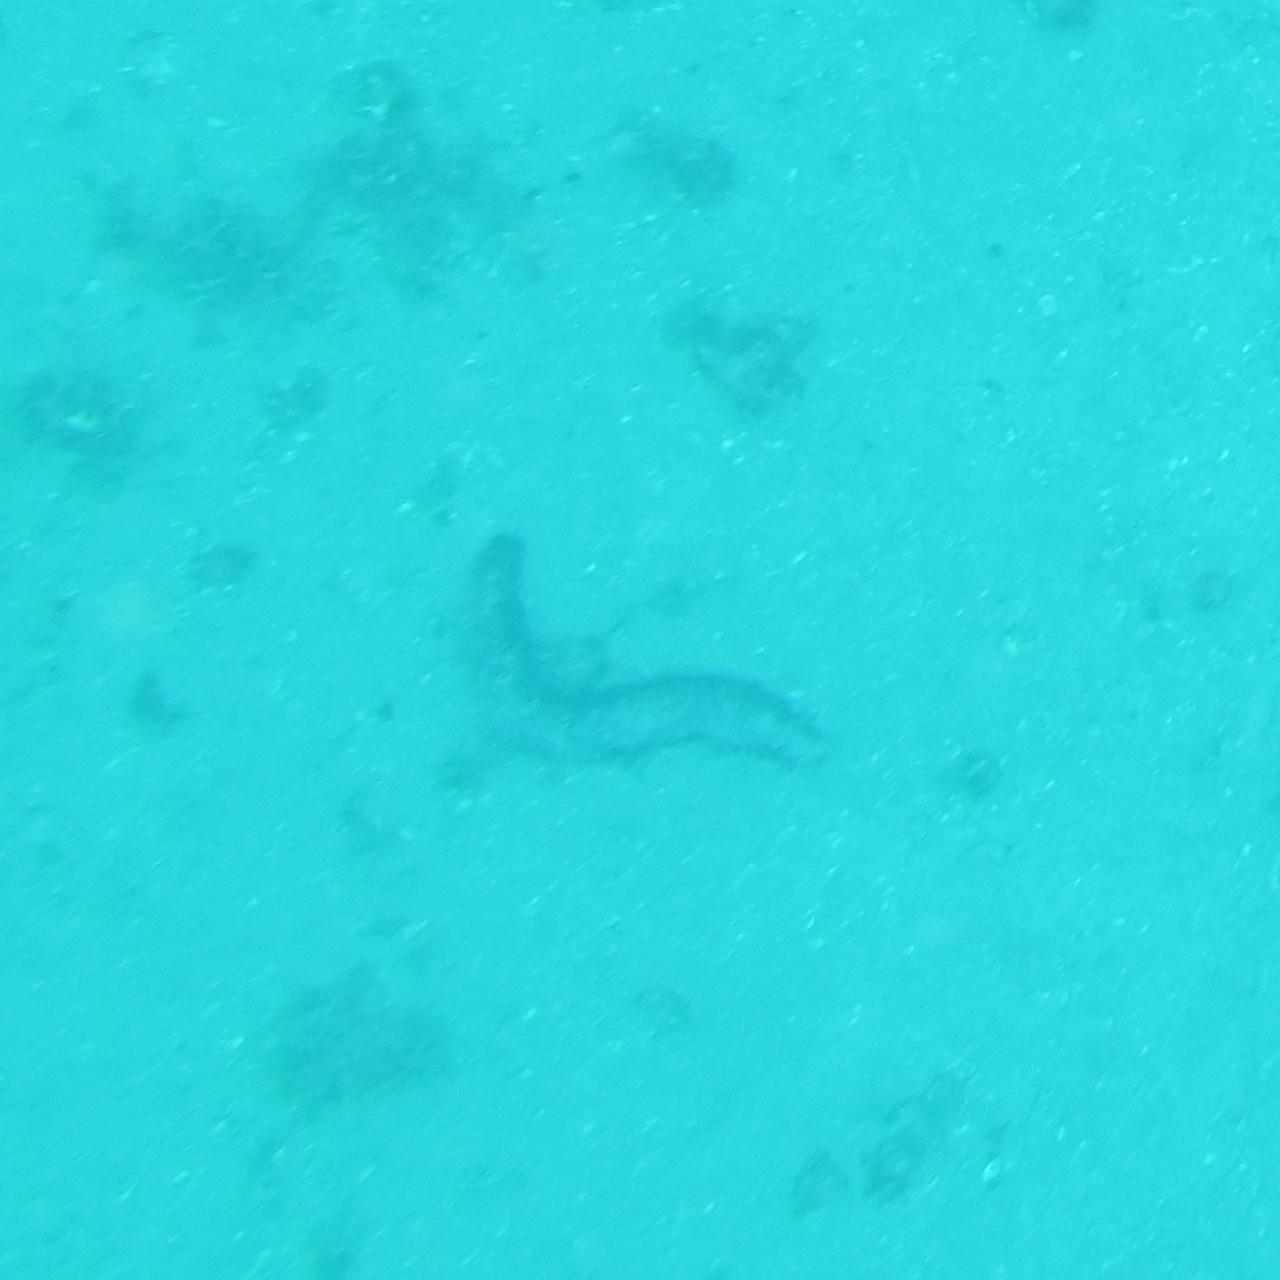Holothuria tubulosa: (454, 514, 826, 766)
